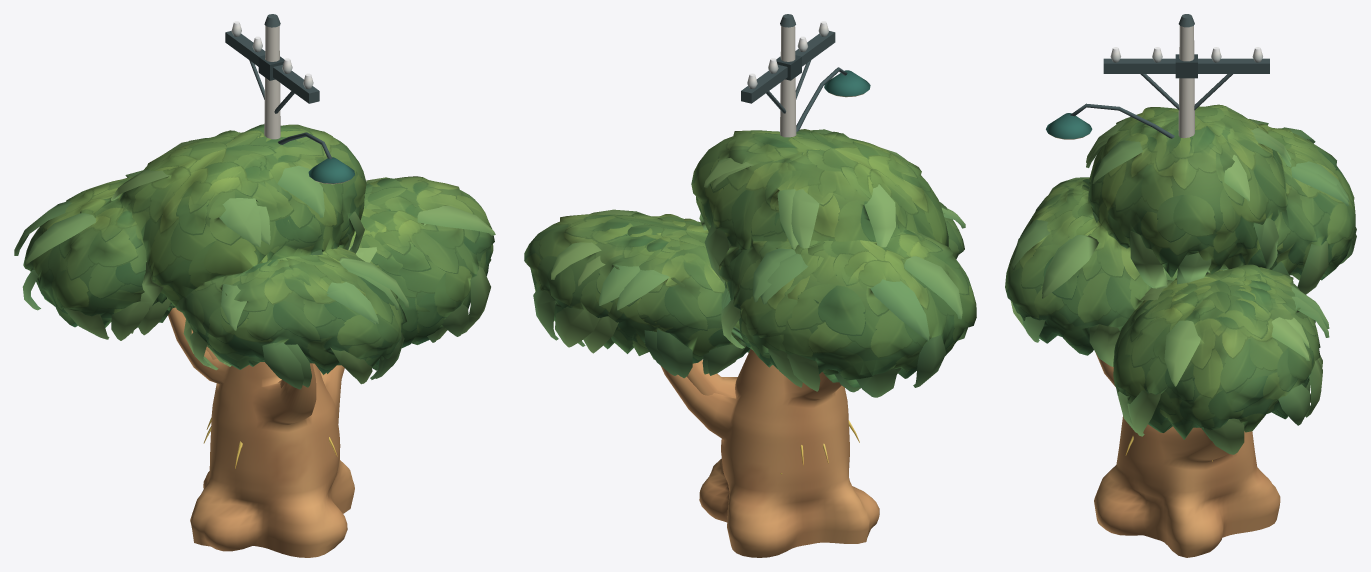
File: countryside-kit.glb
The picture shows the model from 3 angles, left to right: view 1: azimuth 30°, elevation 25°; view 2: azimuth 150°, elevation 25°; view 3: azimuth 270°, elevation 25°; orthographic projection.
Visible parts, largest first — view 1: Tree_Bank, Tree_Round, UtilityPole, UtilityPole_Lamp; view 2: Tree_Bank, Tree_Round, UtilityPole, UtilityPole_Lamp; view 3: Tree_Bank, Tree_Round, UtilityPole, UtilityPole_Lamp.
Part boxes in pixels (x1,y1,x2,y2): Tree_Bank: [14, 124, 495, 557]; Tree_Round: [110, 124, 447, 388]; UtilityPole: [225, 14, 319, 139]; UtilityPole_Lamp: [278, 132, 354, 184]; Tree_Bank: [524, 129, 976, 557]; Tree_Round: [577, 129, 901, 398]; UtilityPole: [741, 14, 835, 137]; UtilityPole_Lamp: [796, 67, 870, 131]; Tree_Bank: [1005, 104, 1356, 557]; Tree_Round: [1005, 116, 1356, 412]; UtilityPole: [1103, 14, 1269, 138]; UtilityPole_Lamp: [1046, 103, 1174, 139].
Bounding box in the file's own units: 5.91 × 6.47 × 4.06.
12 materials, 2 textured.
